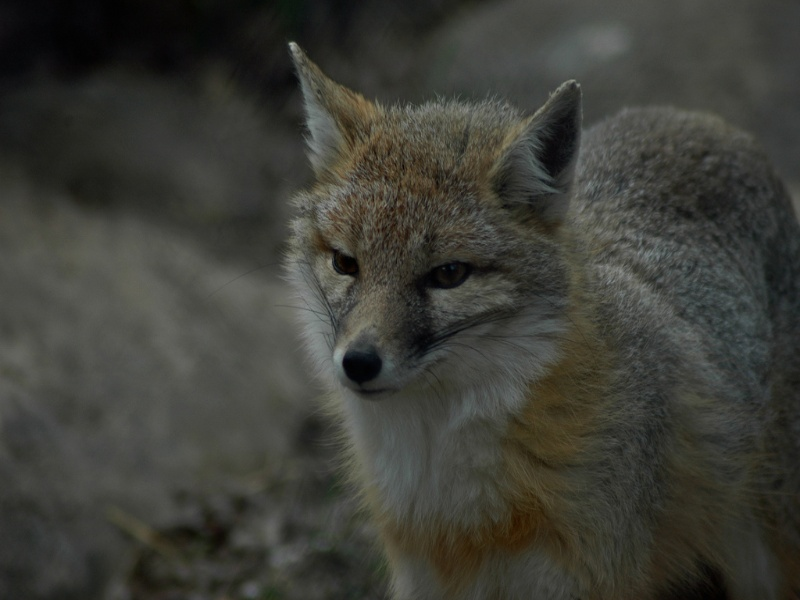fox: (255, 37, 789, 581)
